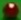brown: (0, 0, 21, 20)
